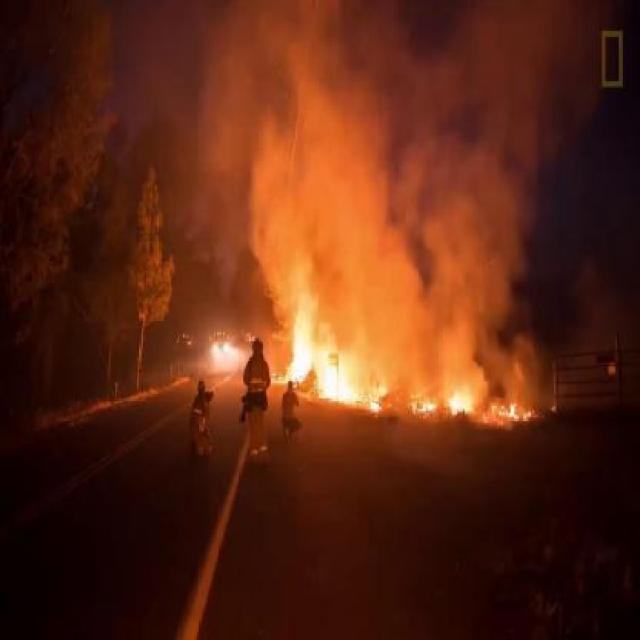Fire: (208, 300, 582, 445)
Smoke: (116, 11, 593, 338)
